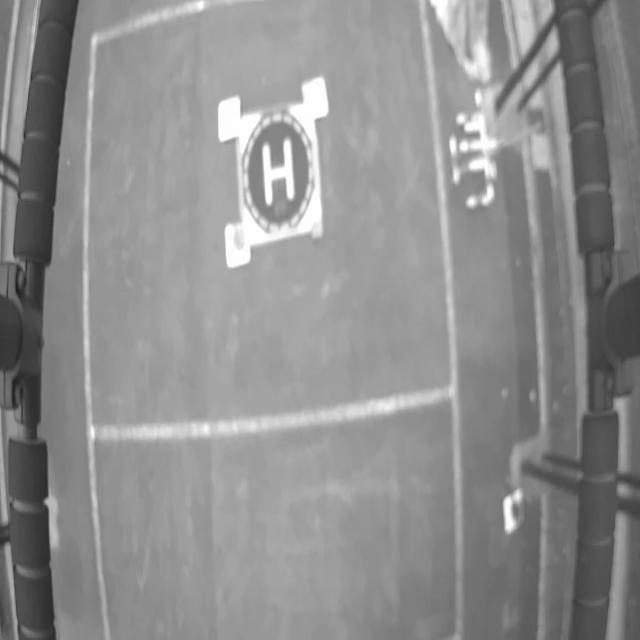Helipad: (262, 138, 296, 206)
